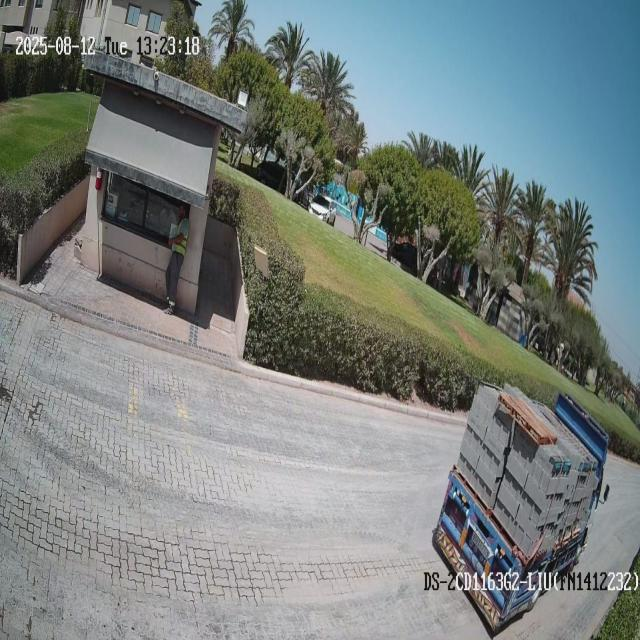bricks: (456, 383, 596, 558)
